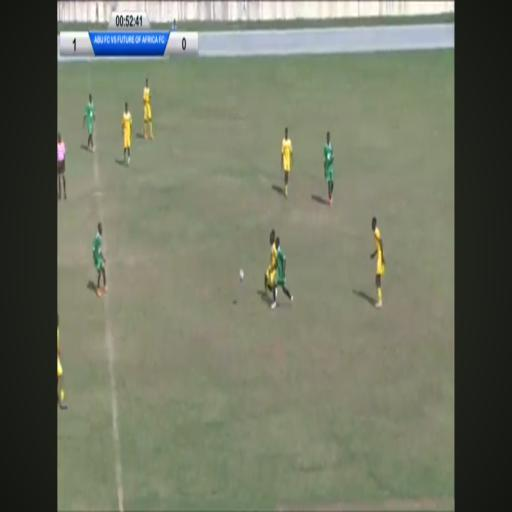ball: (237, 260, 246, 289)
referee: (56, 121, 74, 222)
team1: (368, 216, 392, 316), (278, 121, 297, 203), (141, 67, 156, 148), (120, 96, 134, 174), (264, 223, 277, 296)
team2: (86, 208, 112, 303), (274, 238, 302, 314), (322, 124, 338, 210), (82, 86, 99, 160)
